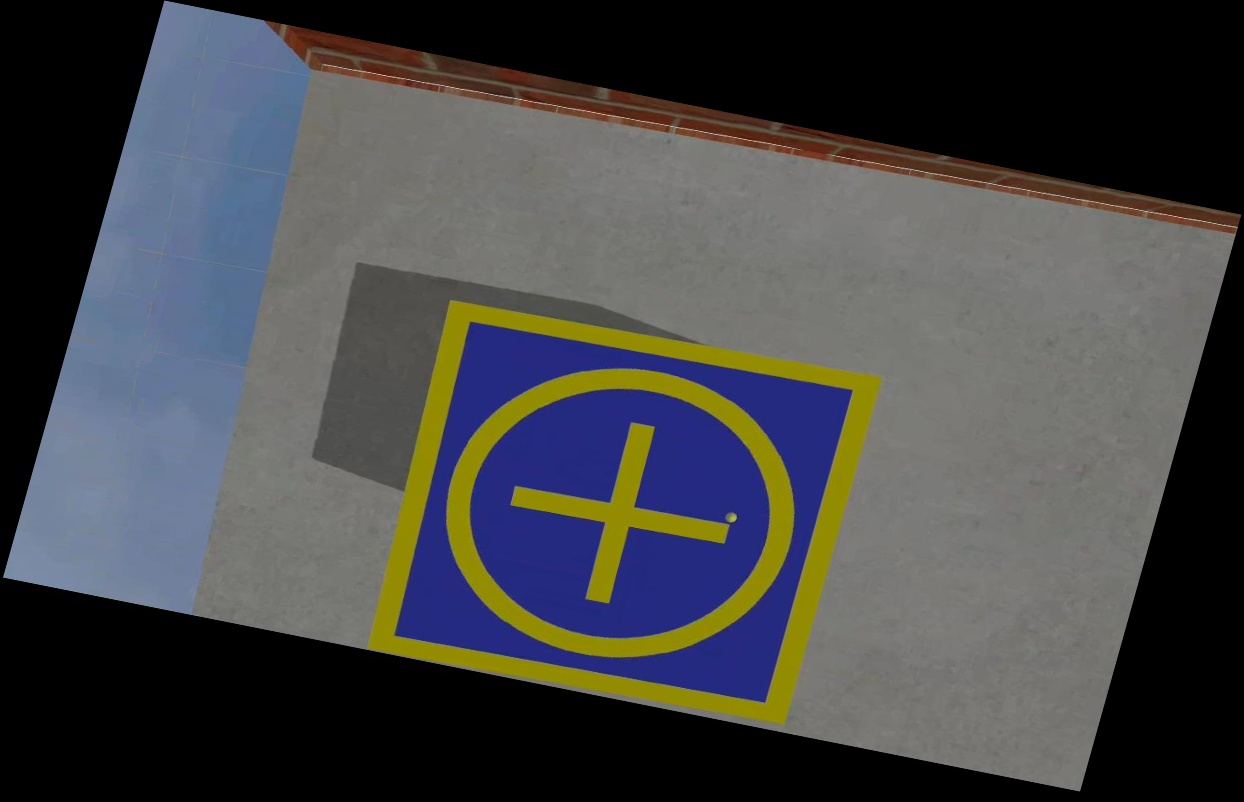small_base: (351, 291, 885, 732)
